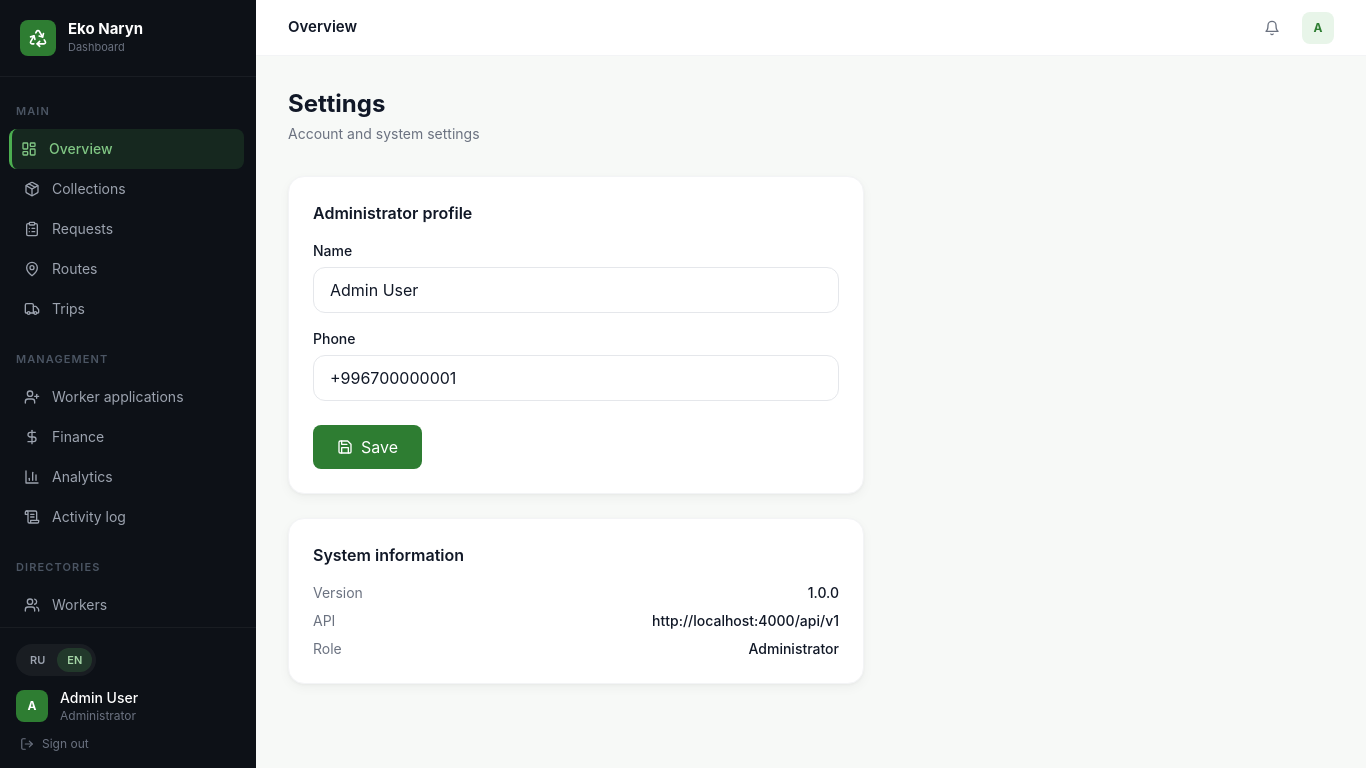
SettingsPage › a 4xx error from /users/:id is surfaced inline
The width and height of the screenshot is (1366, 768).
Expected: the field showing "Admin User" is shown, [313, 267, 839, 313]
Click the button "Save" at (368, 447), box [313, 425, 422, 469]
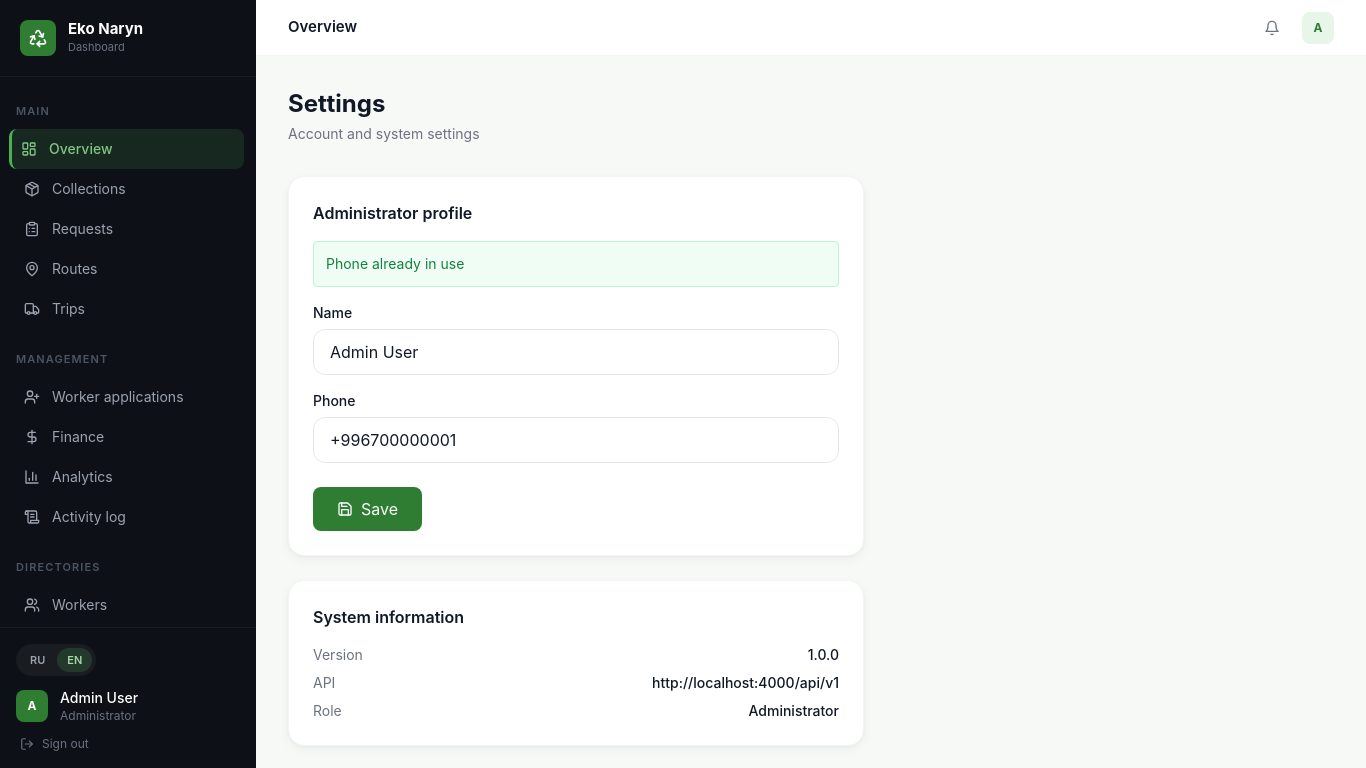
Expected: the text "Phone already in use" is shown, [313, 241, 839, 287]
